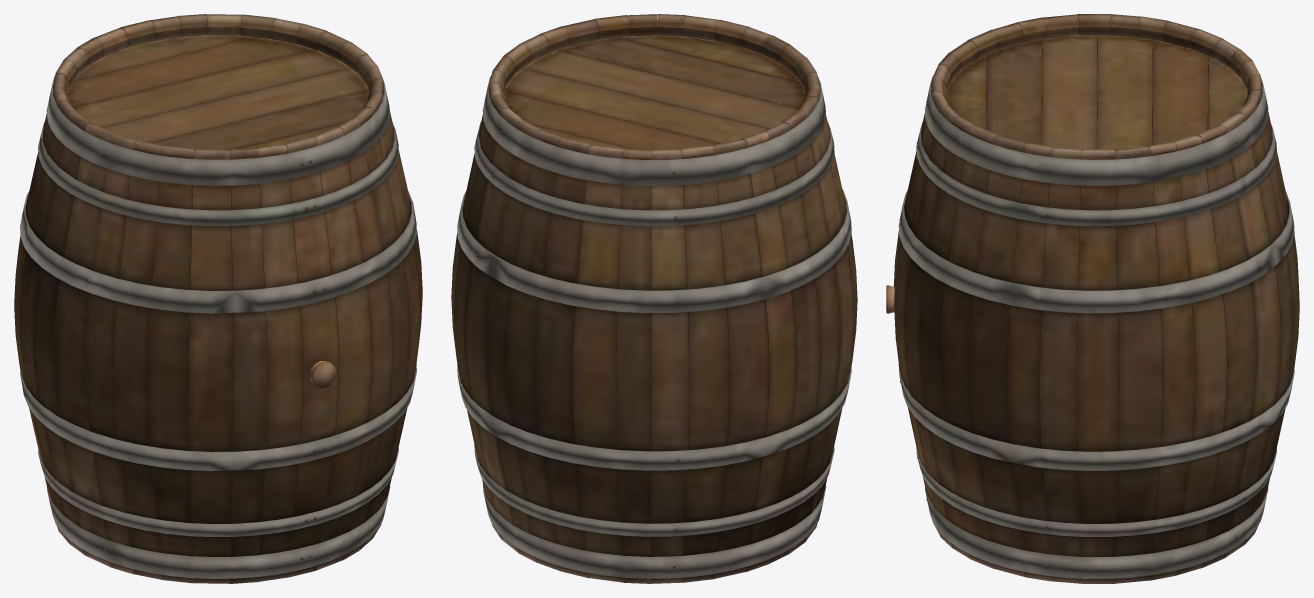
File: wine_barrel_01.glb
The picture shows the model from 3 angles, left to right: view 1: azimuth 30°, elevation 25°; view 2: azimuth 150°, elevation 25°; view 3: azimuth 270°, elevation 25°; orthographic projection.
Visible parts, largest first — view 1: wine_barrel_01_Lid; view 2: wine_barrel_01_Lid; view 3: wine_barrel_01_Lid.
Boxes of the visible parts, <box> form: wine_barrel_01_Lid: <box>14,14,422,583</box>; wine_barrel_01_Lid: <box>451,14,857,583</box>; wine_barrel_01_Lid: <box>886,14,1299,583</box>.
Size of the model in its own units: 0.7419 by 0.8703 by 0.7554.
Materials: 1 (1 with a texture image).
